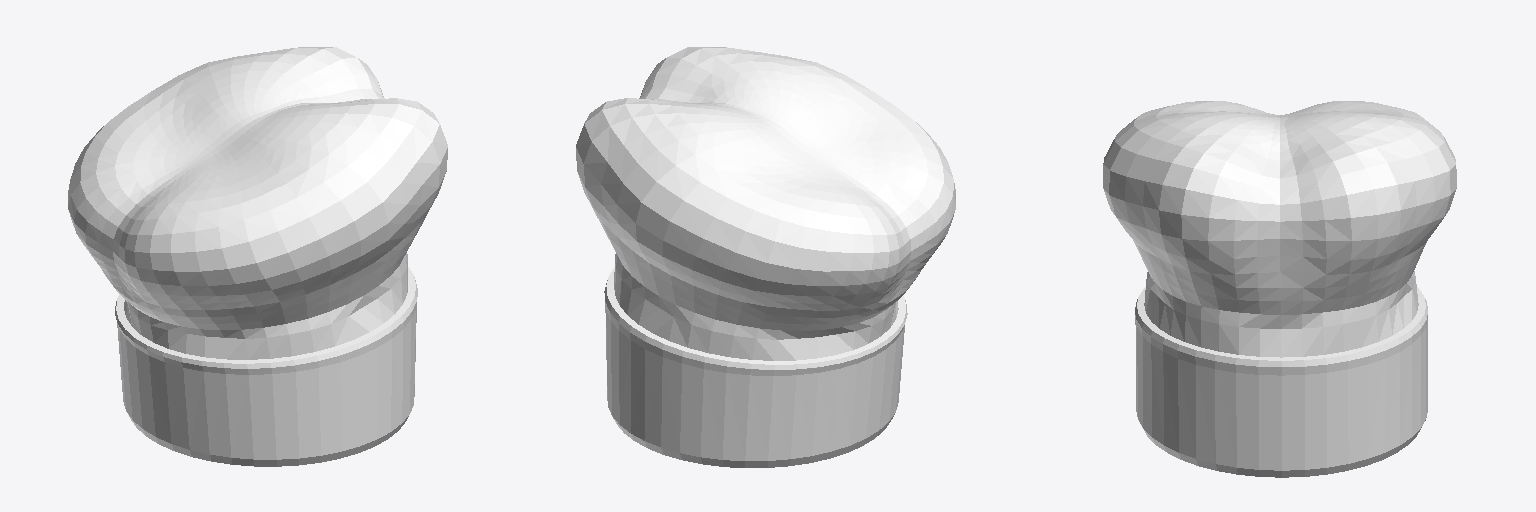
File: Chef.obj
The picture shows the model from 3 angles: view 1: azimuth 30°, elevation 25°; view 2: azimuth 150°, elevation 25°; view 3: azimuth 270°, elevation 25°; orthographic projection.
Parts seen in each view (by area): view 1: Handle1; view 2: Handle1; view 3: Handle1.
Boxes of the visible parts, box(x1,y1,x2,y2) form: Handle1: box(68, 47, 447, 466); Handle1: box(576, 47, 955, 467); Handle1: box(1103, 101, 1456, 477).
Bounding box in the file's own units: 1.53 × 1.51 × 1.55.